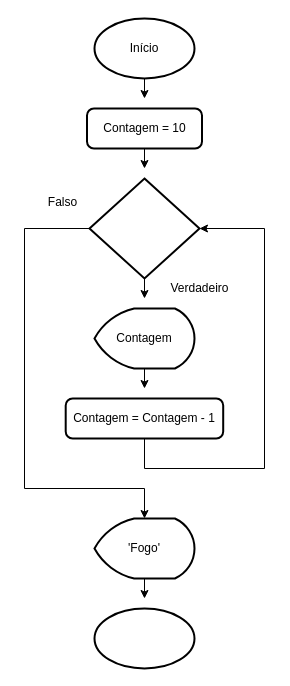
The diagram is 290 pixels wide and 686 high, and some of its shapes have lost their labels. The box of each missing label's shape, as (x1, y1, x2, y2) in pixels:
Contagem >= 0: (88, 177, 200, 279)
Fim: (93, 607, 195, 669)
